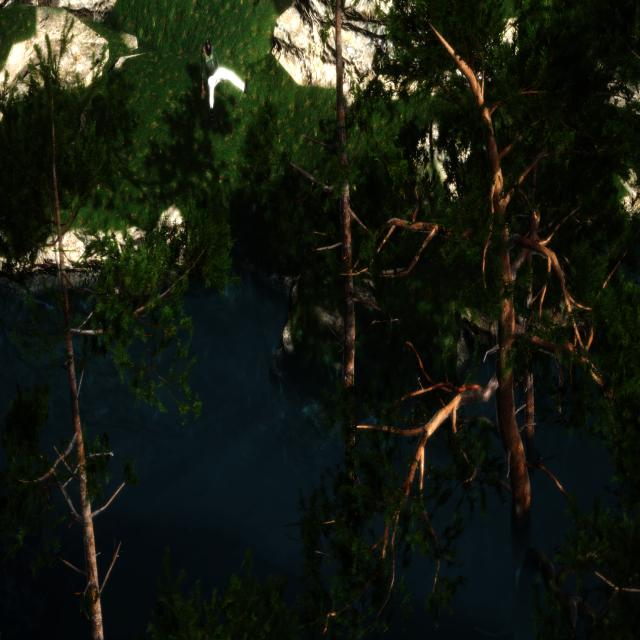Human: (196, 37, 252, 119)
